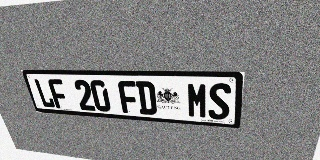0: (89, 80, 111, 112)
2: (73, 80, 96, 111)
D: (135, 81, 157, 115)
F: (117, 81, 139, 114), (47, 79, 70, 109)
L: (33, 79, 56, 108)
M: (187, 82, 208, 119)
S: (208, 83, 231, 120)
